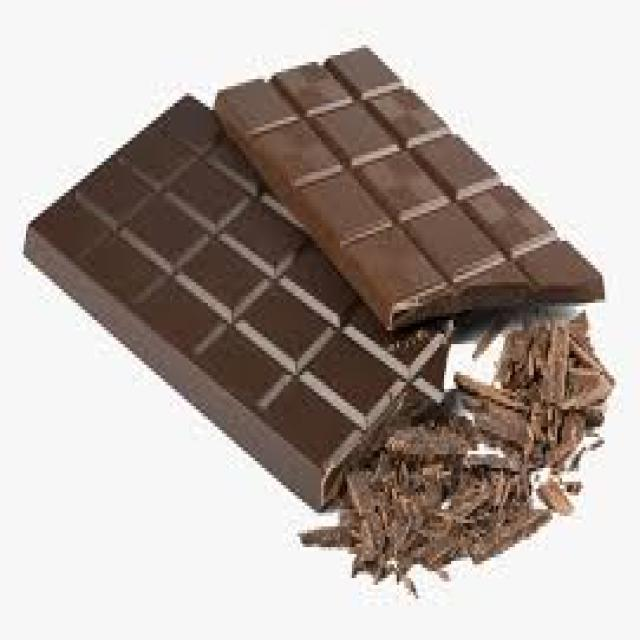Chocolate: (26, 41, 605, 514)
